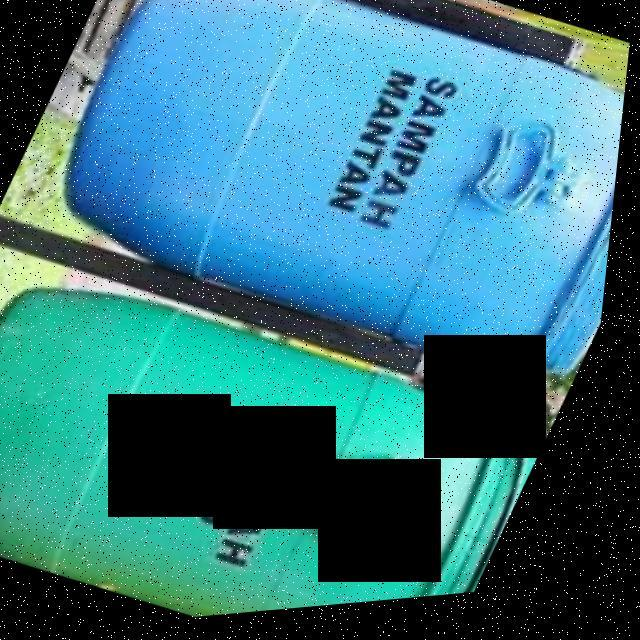bin: (2, 0, 640, 450), (0, 214, 582, 640)
